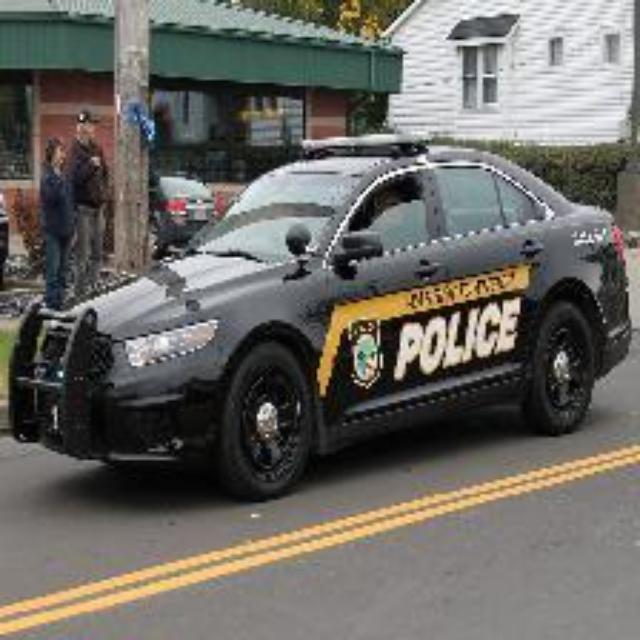emergency: (16, 118, 624, 498)
